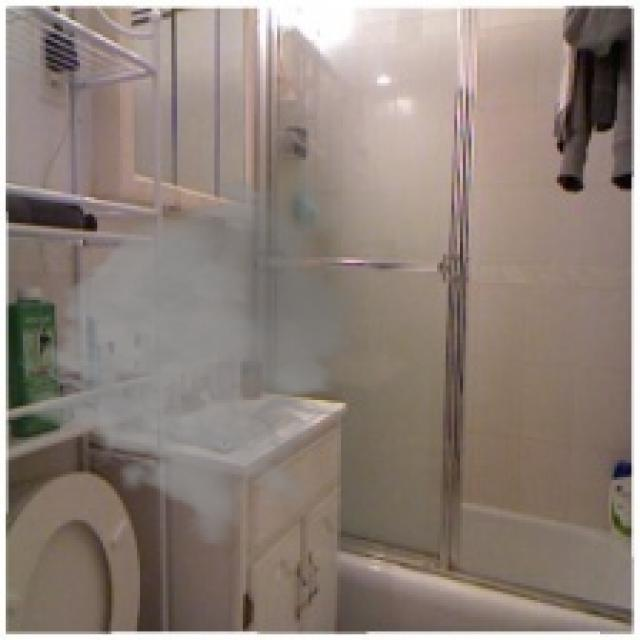smoke: (12, 177, 394, 549)
